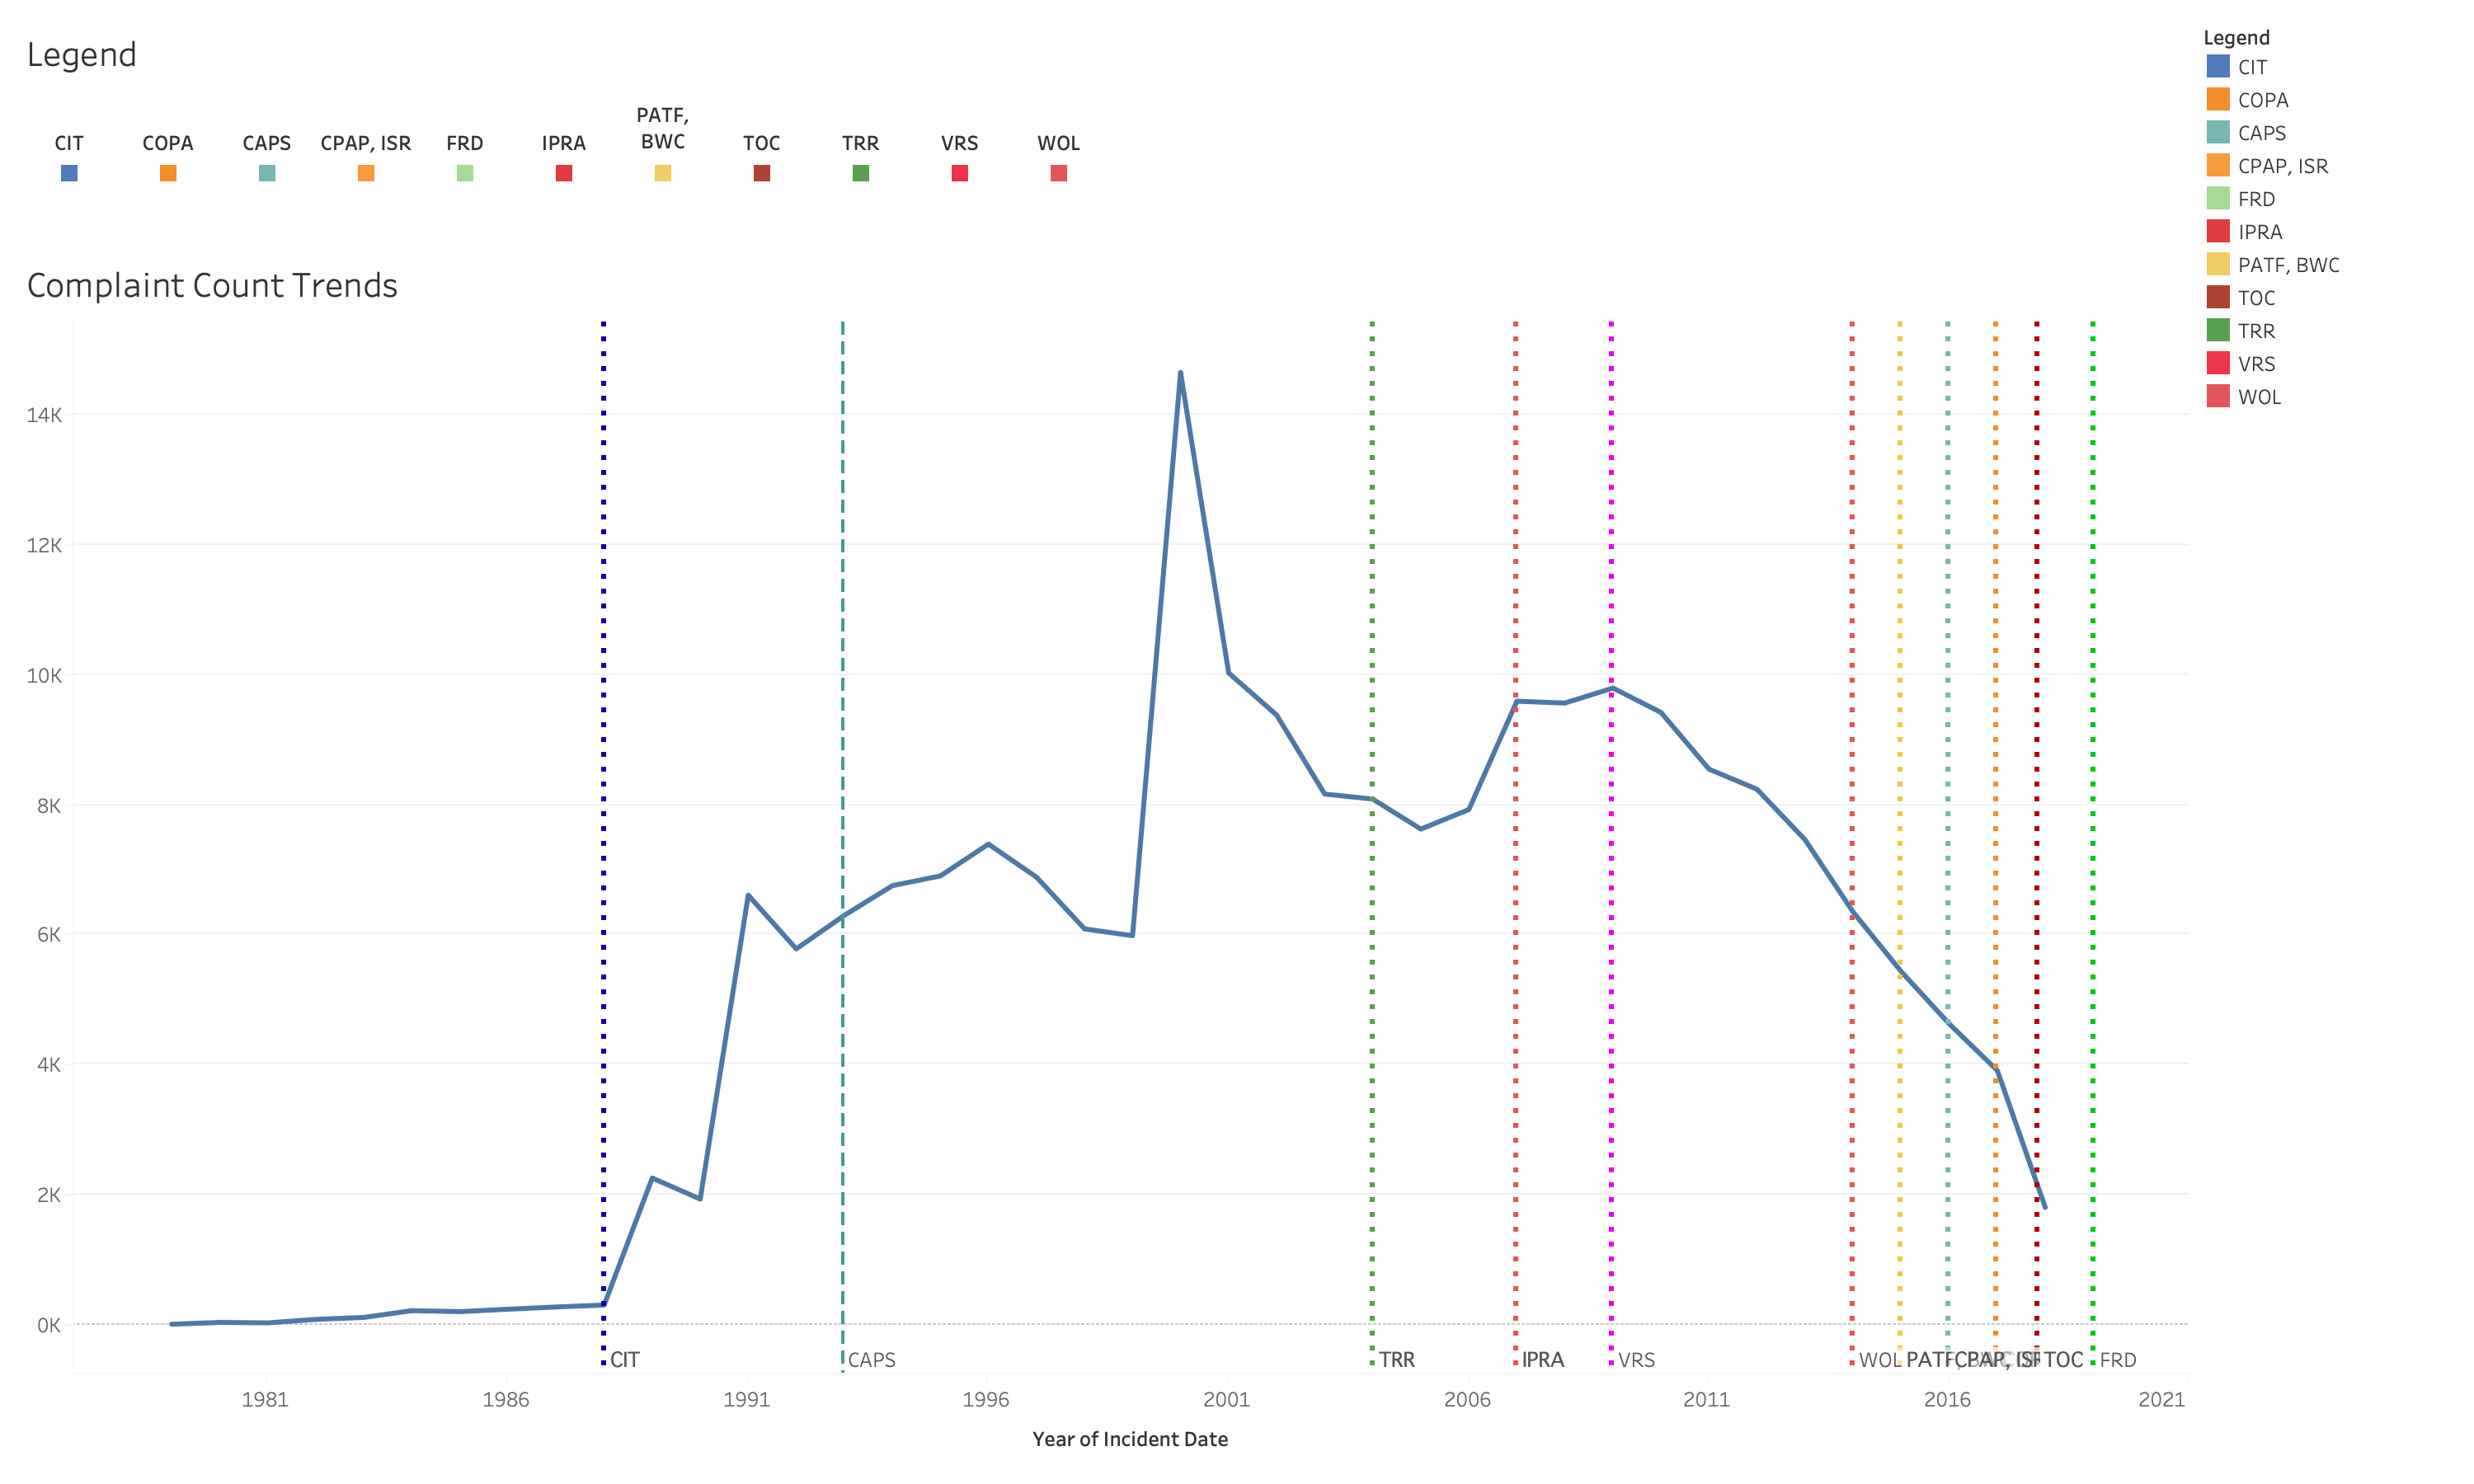

The page's visual inventory and layout, read from the dashboard file:
{"tool":"tableau","page":{"name":"Viz 1","canvas":[1000,1000],"units":"permille","ordinal":0},"visuals":[{"type":"worksheet","title":"legend","mark":"Square","box":[5.3,8.9,882,155.6]},{"type":"legend","title":"legend","param":"[federated.1b0pa4i1ec3ry010a1tgf1q66knt].[:Measure Names]","box":[887.3,8.9,107.3,273.3]},{"type":"worksheet","title":"Complaint Count Trends","mark":"Automatic","rows":["crid"],"cols":["incident_date"],"box":[5.3,164.4,882,826.7]}]}

Visuals, with their boxes on the dashboard's canvas, which has no fixed pixel size, in thousandths of its width and height (x1, y1, x2, y2). These are canvas units, not pixel positions in the 2474x1484 screenshot, which may show the page scaled, cropped or inside an application window:
"legend" worksheet (Square marks): crop(5, 9, 887, 164)
"legend" legend: crop(887, 9, 995, 282)
"Complaint Count Trends" worksheet: crop(5, 164, 887, 991)
